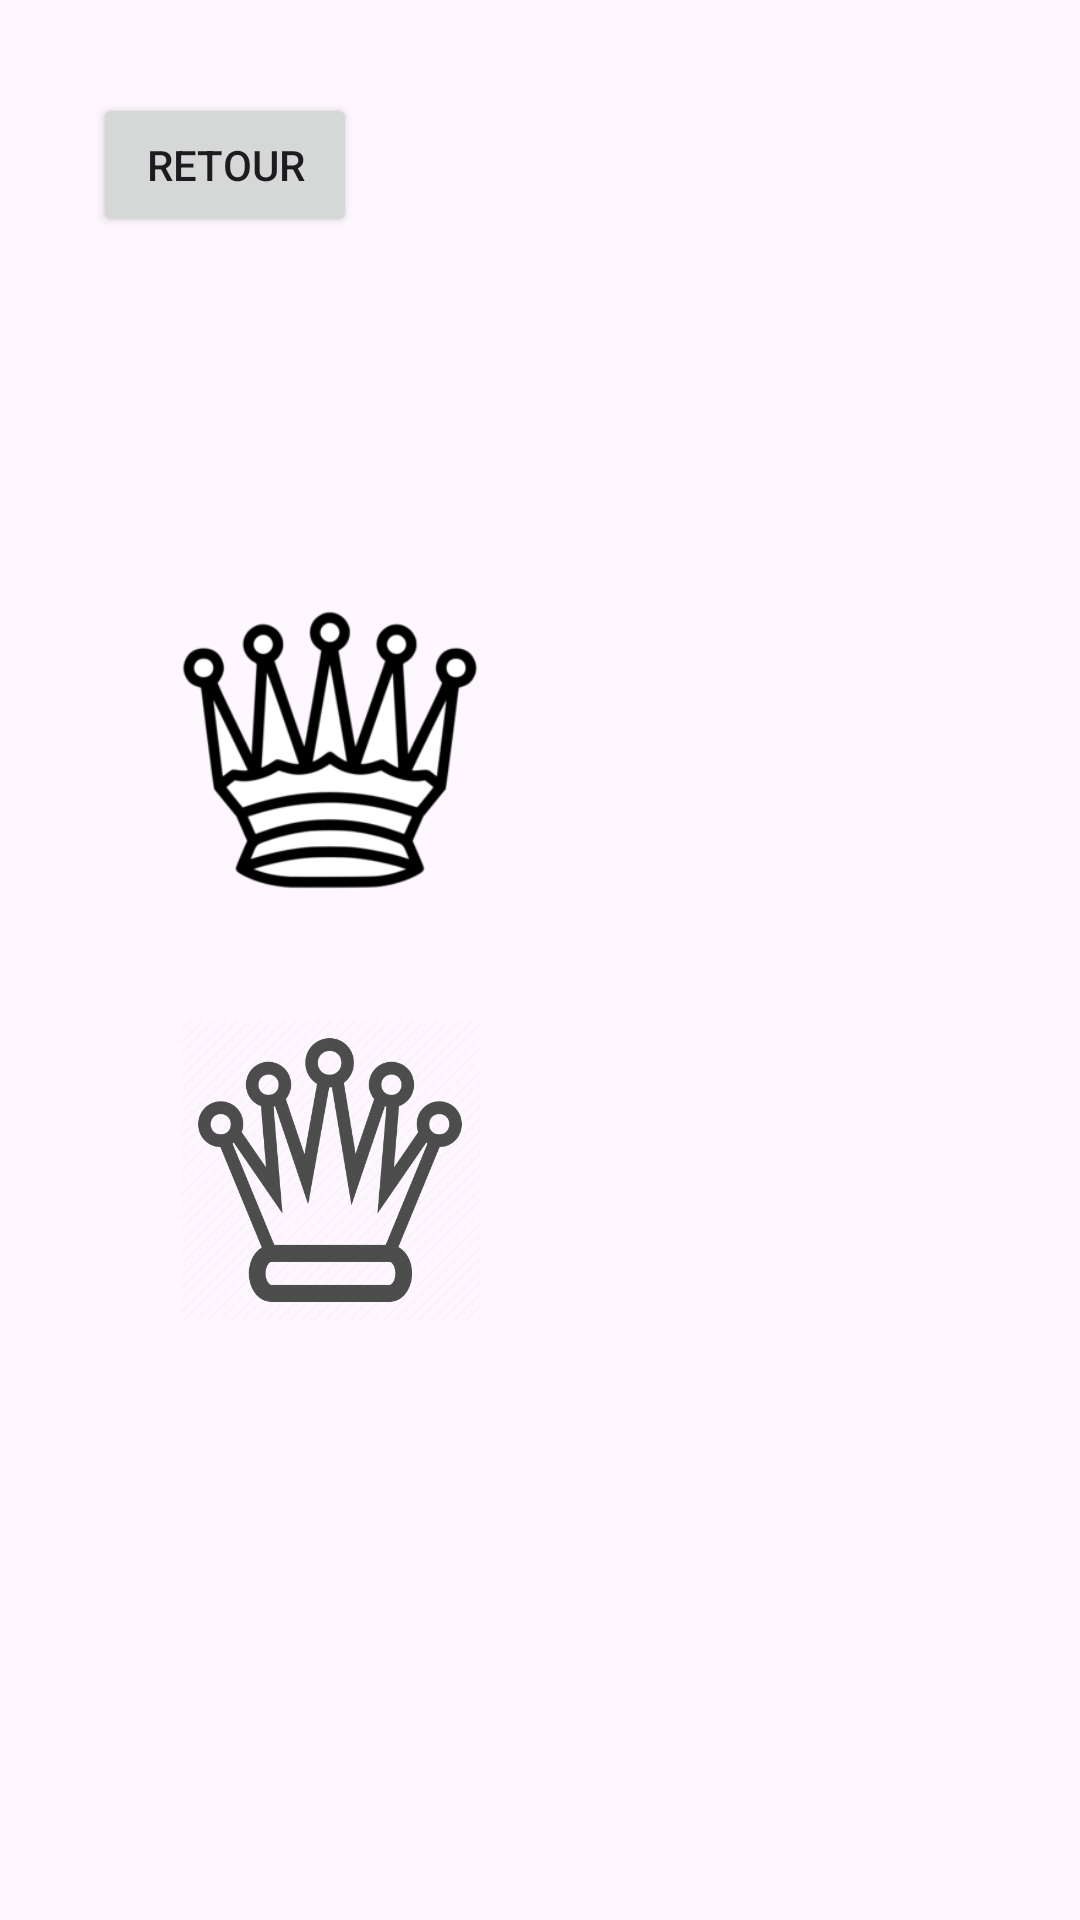

Point at icon controls on the screen. Image size 1080 x 1920, points as (x=x, y=y).
queen: (x=330, y=750), (x=330, y=1170)
